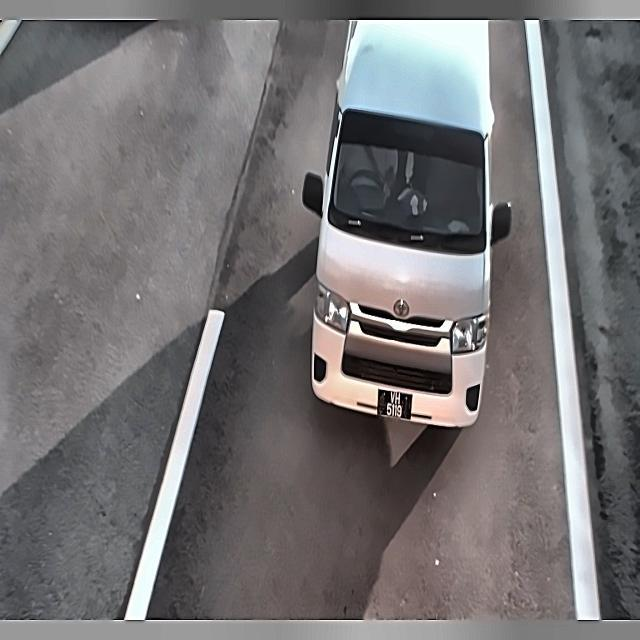car: (374, 386, 418, 427)
